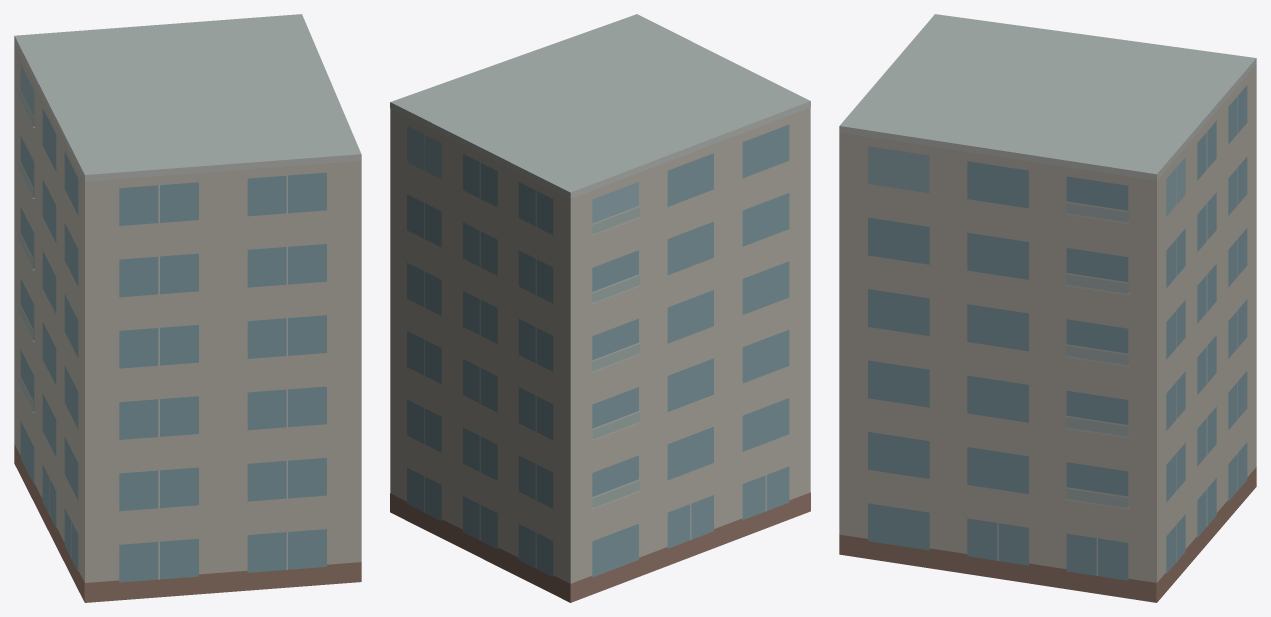
Rendered from survey-upis-32887674.glb.
3 views of the same model, side by side, from view 1: azimuth 30°, elevation 25°; view 2: azimuth 150°, elevation 25°; view 3: azimuth 270°, elevation 25° (orthographic). The views are drawn at different scales.
Visible parts, largest first — view 1: survey-upis-32887674.tmp; view 2: survey-upis-32887674.tmp; view 3: survey-upis-32887674.tmp.
Part boxes in pixels (x1,y1,x2,y2): survey-upis-32887674.tmp: (14, 14, 361, 602); survey-upis-32887674.tmp: (390, 14, 810, 602); survey-upis-32887674.tmp: (839, 14, 1256, 602).
Bounding box in the file's own units: 12.92 × 16.1 × 14.21.
